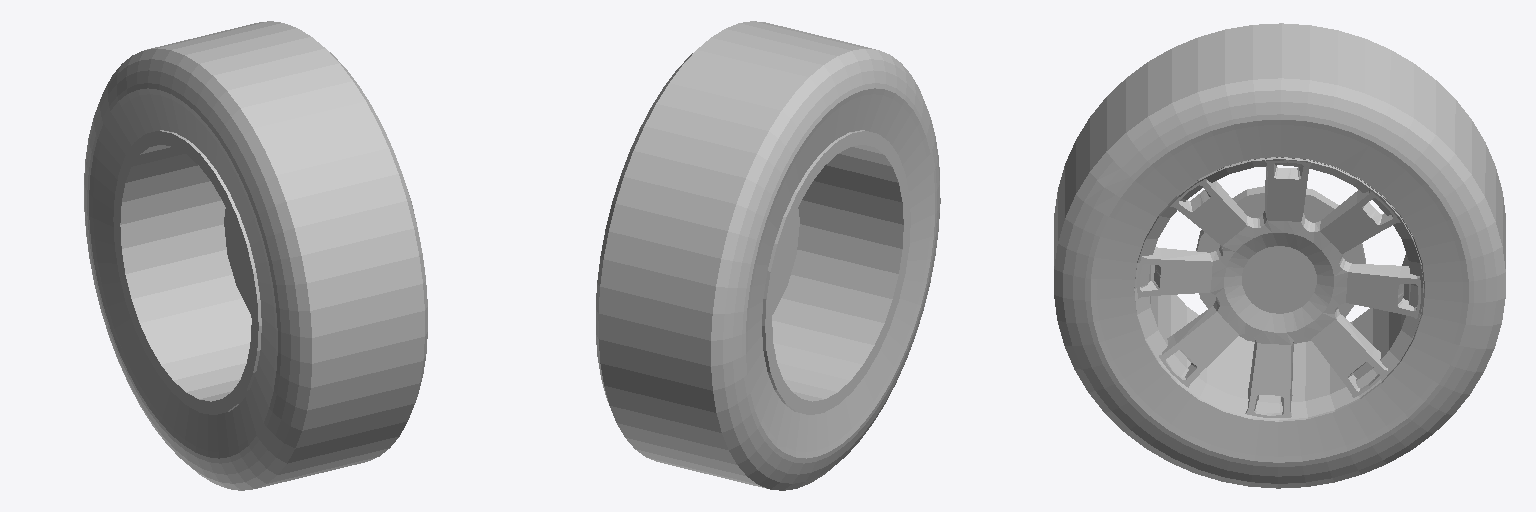
Rendered from NavWheel.obj.
3 renders of one model, left to right at view 1: azimuth 30°, elevation 25°; view 2: azimuth 150°, elevation 25°; view 3: azimuth 270°, elevation 25°, orthographic.
Visible parts, largest first — view 1: lincoln_navigator lincoln_navigator01; view 2: lincoln_navigator lincoln_navigator01; view 3: lincoln_navigator lincoln_navigator01.
Boxes of the visible parts, x1=… form: lincoln_navigator lincoln_navigator01: x1=84, y1=21, x2=427, y2=490; lincoln_navigator lincoln_navigator01: x1=596, y1=21, x2=940, y2=490; lincoln_navigator lincoln_navigator01: x1=1054, y1=23, x2=1505, y2=488.
Size of the model in its own units: 0.9025 by 2.43 by 2.43.